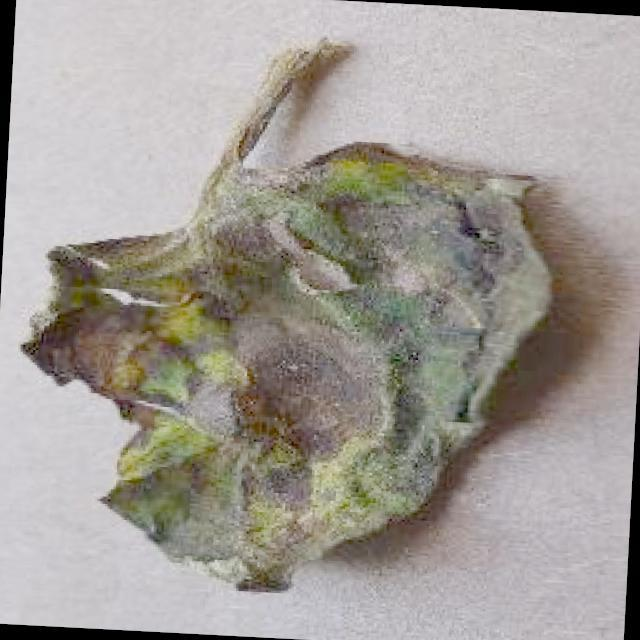Tomato Early blight leaf: (6, 121, 561, 608)
